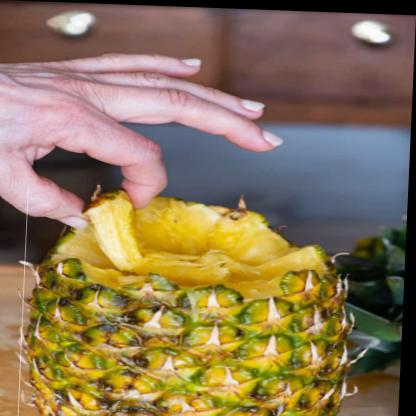pineapple: (21, 185, 361, 415)
